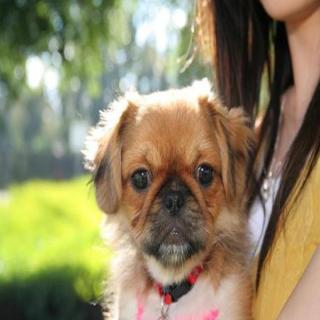dog: (81, 90, 251, 295)
nose: (155, 180, 192, 217)
